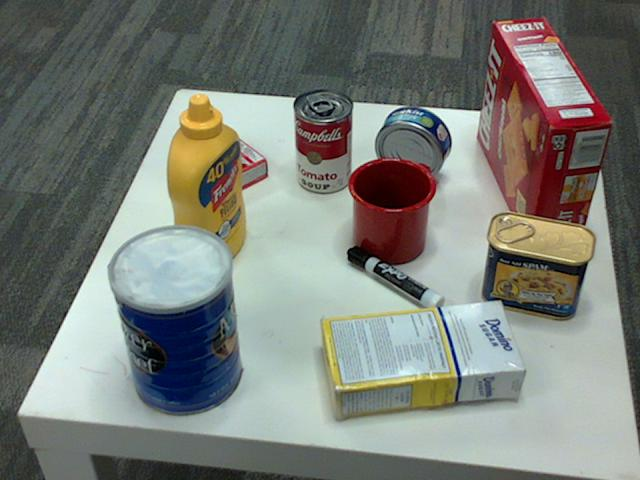cracker_box: (476, 16, 612, 247)
gelatin_box: (171, 129, 268, 202)
large_marker: (347, 247, 444, 317)
master_chef_can: (104, 226, 240, 418)
mug: (345, 156, 434, 262)
mustard_bottle: (164, 94, 246, 275)
potted_meat_can: (479, 212, 594, 319)
sugar_box: (317, 299, 523, 416)
tomato_soup_can: (292, 89, 352, 193)
tuna_fish_can: (373, 105, 450, 181)
